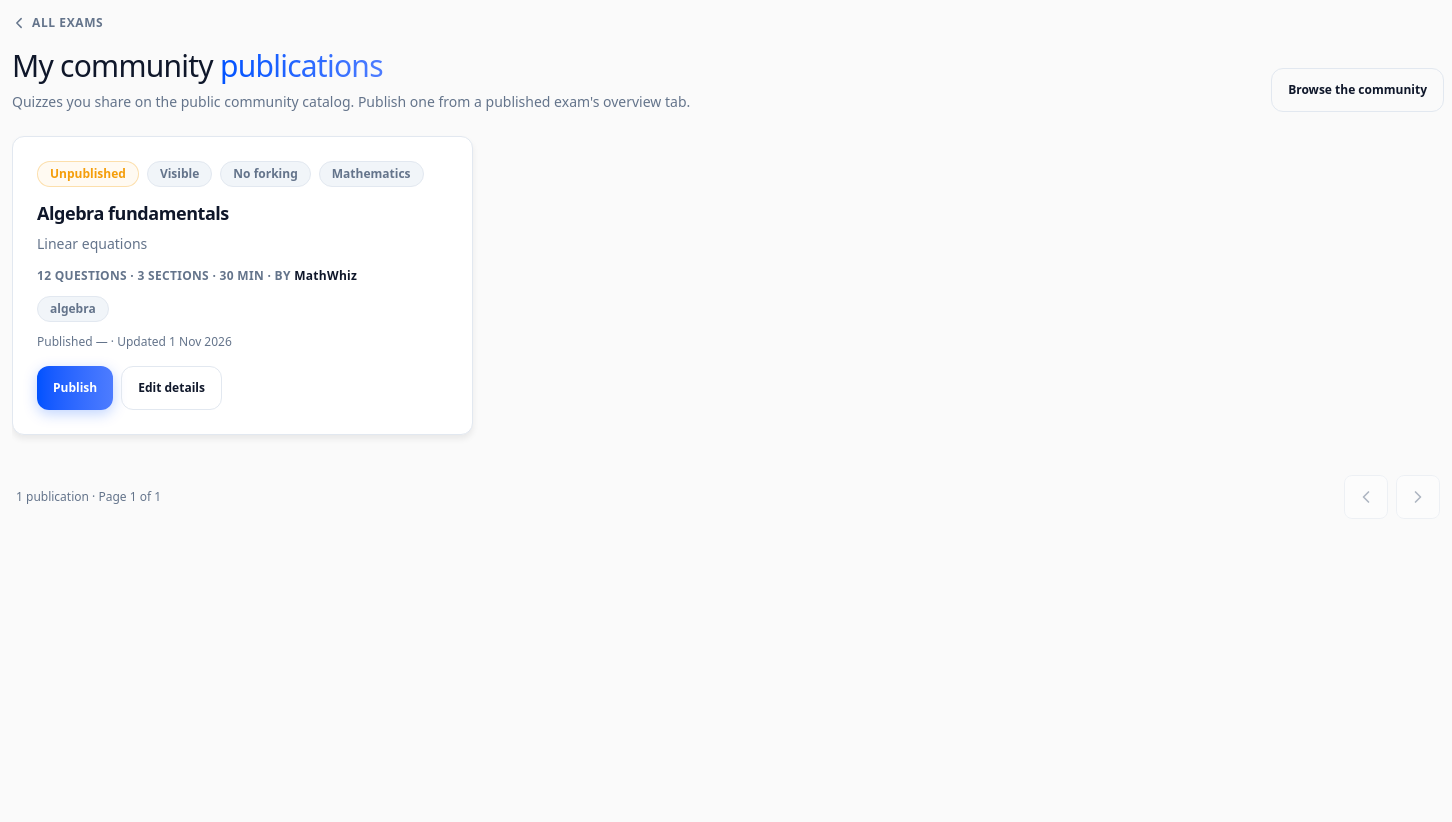
Test case: /community/mine › publishes an UNPUBLISHED row, shows success and refetches the list
Step 1. Click the button "Publish" → {"x": 75, "y": 388}, box [37,366,113,410]
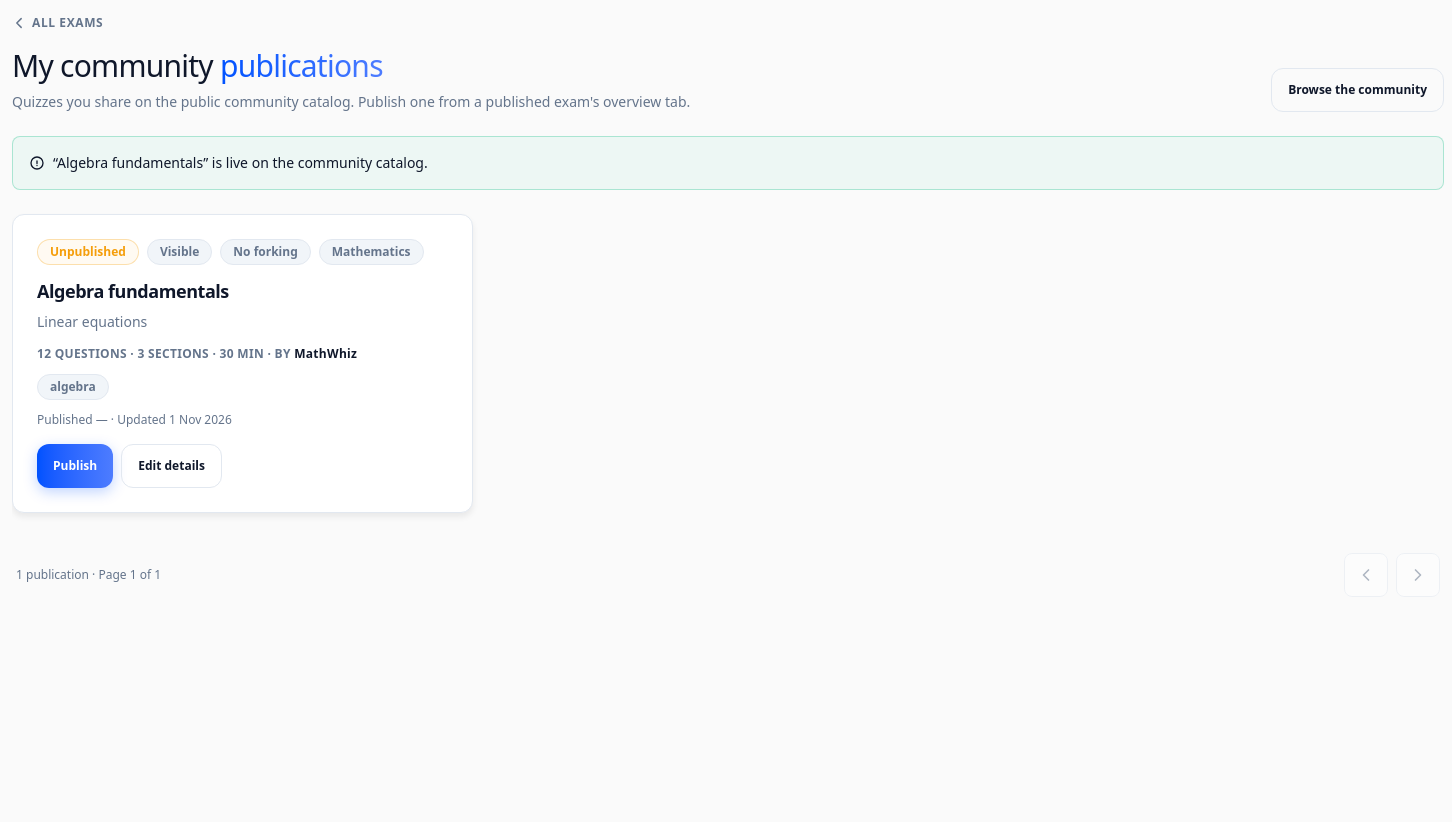
Expected: the message "“Algebra fundamentals” is live on the community catalog." is shown, [12,136,1444,190]
Expected: the text "“Algebra fundamentals” is live on the community catalog." is shown, [53,153,428,173]
